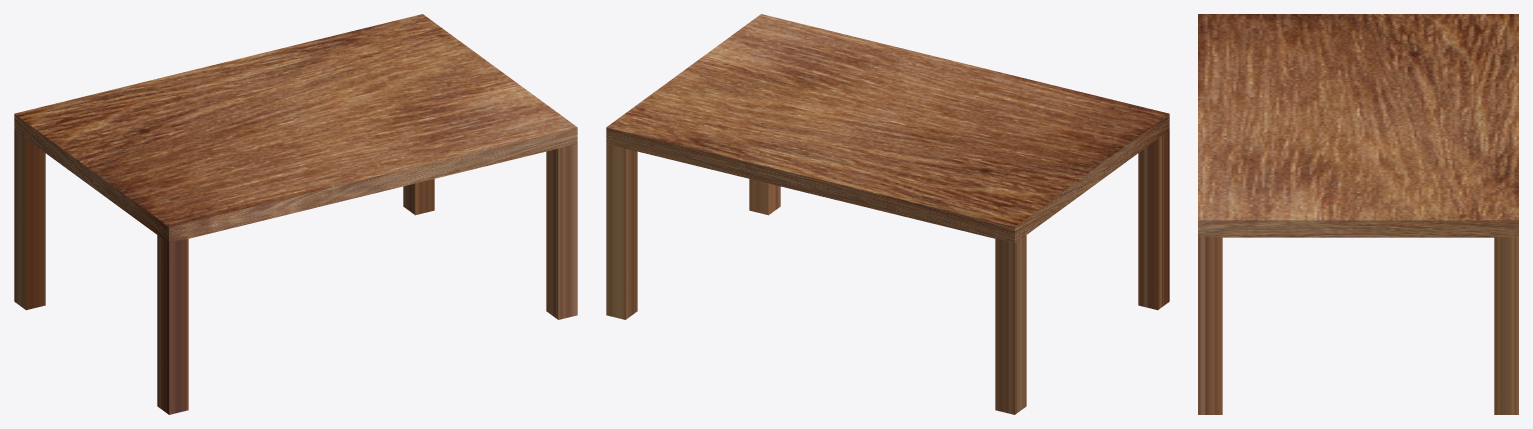
File: стол.fbx
3 views of the same model, side by side, from view 1: azimuth 30°, elevation 25°; view 2: azimuth 150°, elevation 25°; view 3: azimuth 270°, elevation 25° (orthographic). The views are drawn at different scales.
Parts seen in each view (by area): view 1: Cube; view 2: Cube; view 3: Cube.
Boxes of the visible parts, x1,y1,x2,y2 form: Cube: (14,14,577,414); Cube: (606,14,1169,414); Cube: (1198,14,1518,414).
Size of the model in its own units: 5.19 by 2.28 by 3.41.
